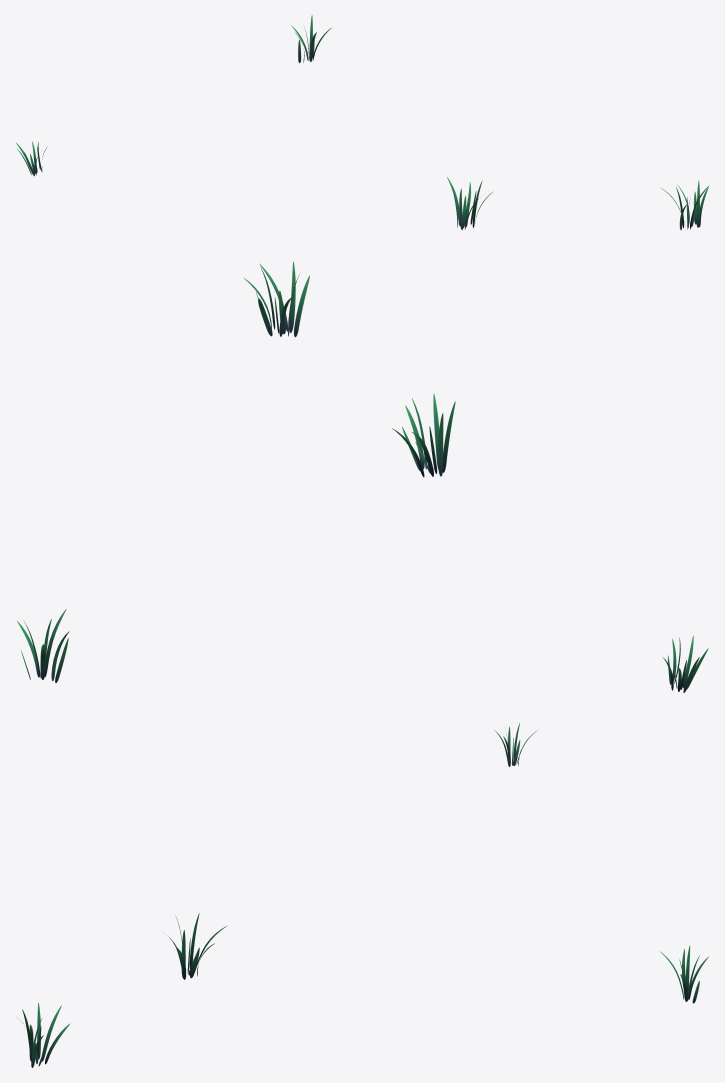
Rendered from grass.glb.
3 views of the same model, one above another, from view 1: azimuth 30°, elevation 25°; view 2: azimuth 150°, elevation 25°; view 3: azimuth 270°, elevation 25° (orthographic). The views are drawn at different scales.
Visible parts, largest first — view 1: Grass:Grass_low6_Grass:Grass_MAT_0, Grass:Grass_low9_Grass:Grass_MAT_0.001, Grass:Grass_low2_Grass:Grass_MAT_0.001; view 2: Grass:Grass_low6_Grass:Grass_MAT_0, Grass:Grass_low9_Grass:Grass_MAT_0.001, Grass:Grass_low2_Grass:Grass_MAT_0.001, Grass:Grass_low6_Grass:Grass_MAT_0.001; view 3: Grass:Grass_low9_Grass:Grass_MAT_0.001, Grass:Grass_low6_Grass:Grass_MAT_0, Grass:Grass_low2_Grass:Grass_MAT_0.001.
Part boxes in pixels (box(x1,y1,x2,y2)): Grass:Grass_low6_Grass:Grass_MAT_0: box(447, 177, 493, 229); Grass:Grass_low9_Grass:Grass_MAT_0.001: box(660, 180, 708, 230); Grass:Grass_low2_Grass:Grass_MAT_0.001: box(291, 15, 331, 62); Grass:Grass_low6_Grass:Grass_MAT_0: box(392, 394, 455, 477); Grass:Grass_low9_Grass:Grass_MAT_0.001: box(244, 261, 309, 337); Grass:Grass_low2_Grass:Grass_MAT_0.001: box(17, 609, 69, 682); Grass:Grass_low6_Grass:Grass_MAT_0.001: box(662, 635, 708, 692); Grass:Grass_low9_Grass:Grass_MAT_0.001: box(18, 1002, 70, 1067); Grass:Grass_low6_Grass:Grass_MAT_0: box(168, 913, 226, 979); Grass:Grass_low2_Grass:Grass_MAT_0.001: box(660, 945, 708, 1003).
Size of the model in its own units: 10.54 by 1.28 by 10.53.
2 materials, 2 textured.
